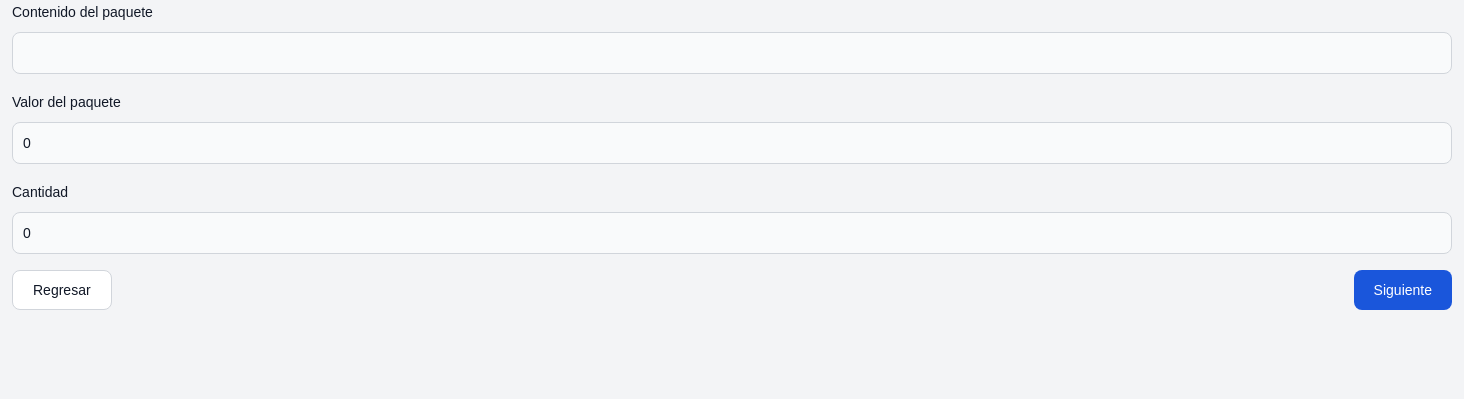
Test case: ParcelInfoForm › Form validation errors › should display validation error when content field is empty and form is submitted
When user submits form without entering content
Click the button with test id "parcel-info-form-next-button": {"x": 1403, "y": 290} [1354, 270, 1452, 310]
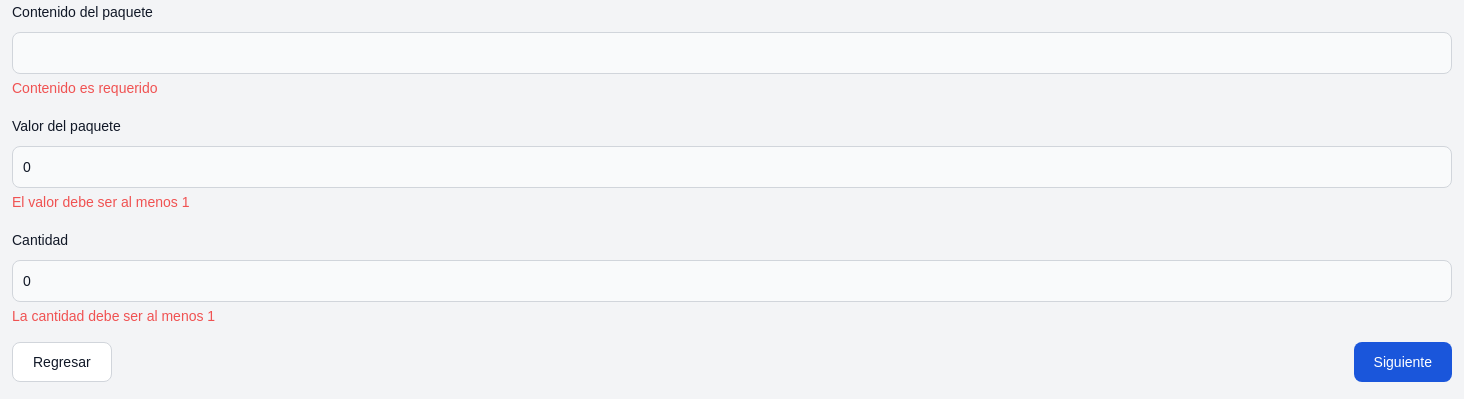
Expected: the text "Contenido es requerido" is shown, [12, 80, 158, 96]
